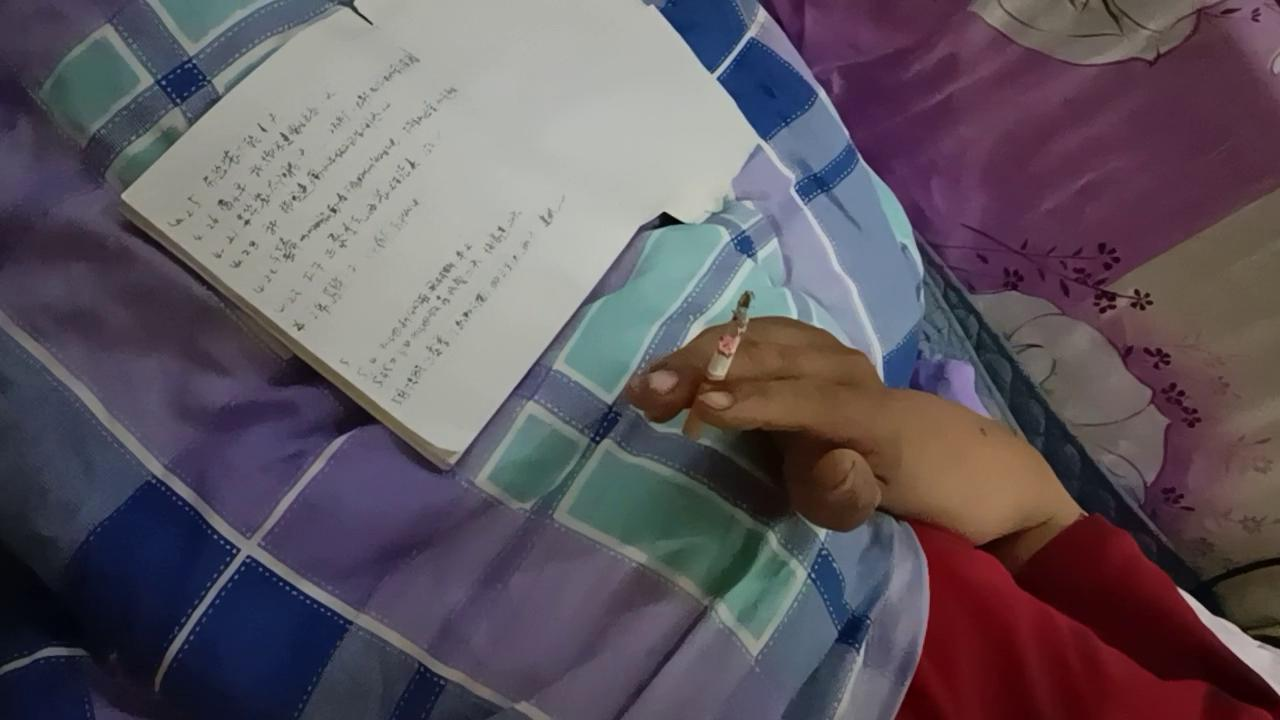smoke: (681, 292, 754, 441)
